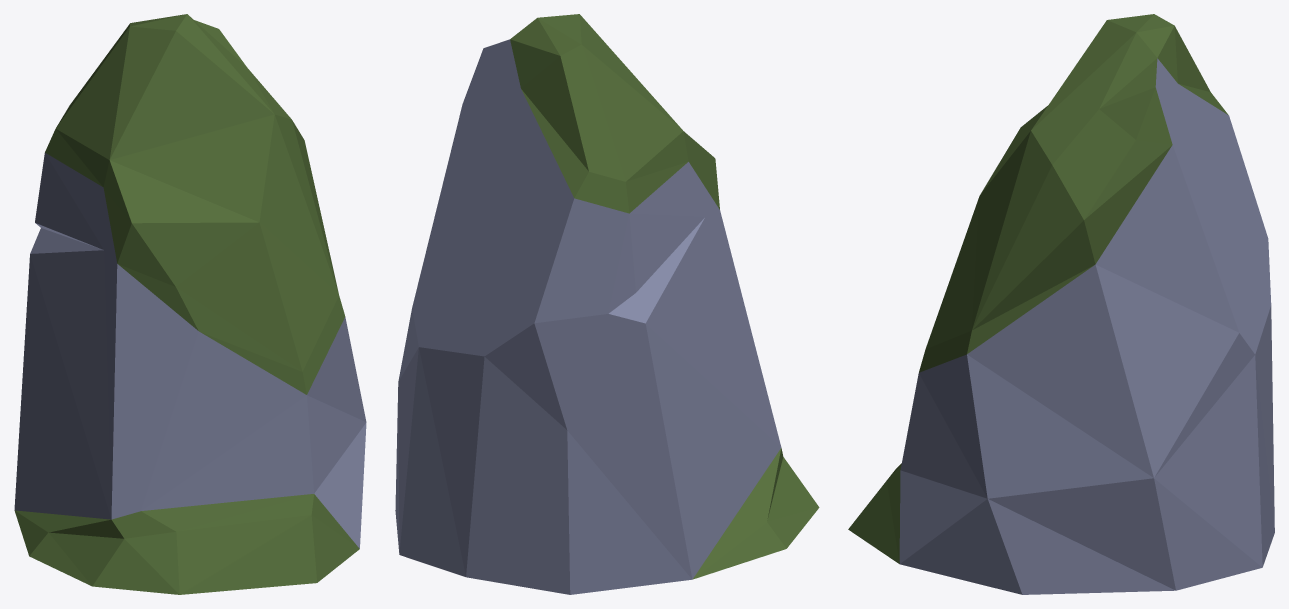
Rendered from Rock_3_2 Asia.fbx.
3 views of the same model, side by side, from view 1: azimuth 30°, elevation 25°; view 2: azimuth 150°, elevation 25°; view 3: azimuth 270°, elevation 25° (orthographic). The views are drawn at different scales.
Parts seen in each view (by area): view 1: Rock_3_2; view 2: Rock_3_2; view 3: Rock_3_2.
Part boxes in pixels (<box>): Rock_3_2: <box>14,14,366,594</box>; Rock_3_2: <box>395,14,819,594</box>; Rock_3_2: <box>848,14,1274,594</box>.
Size of the model in its own units: 1.87 by 2.66 by 2.06.
